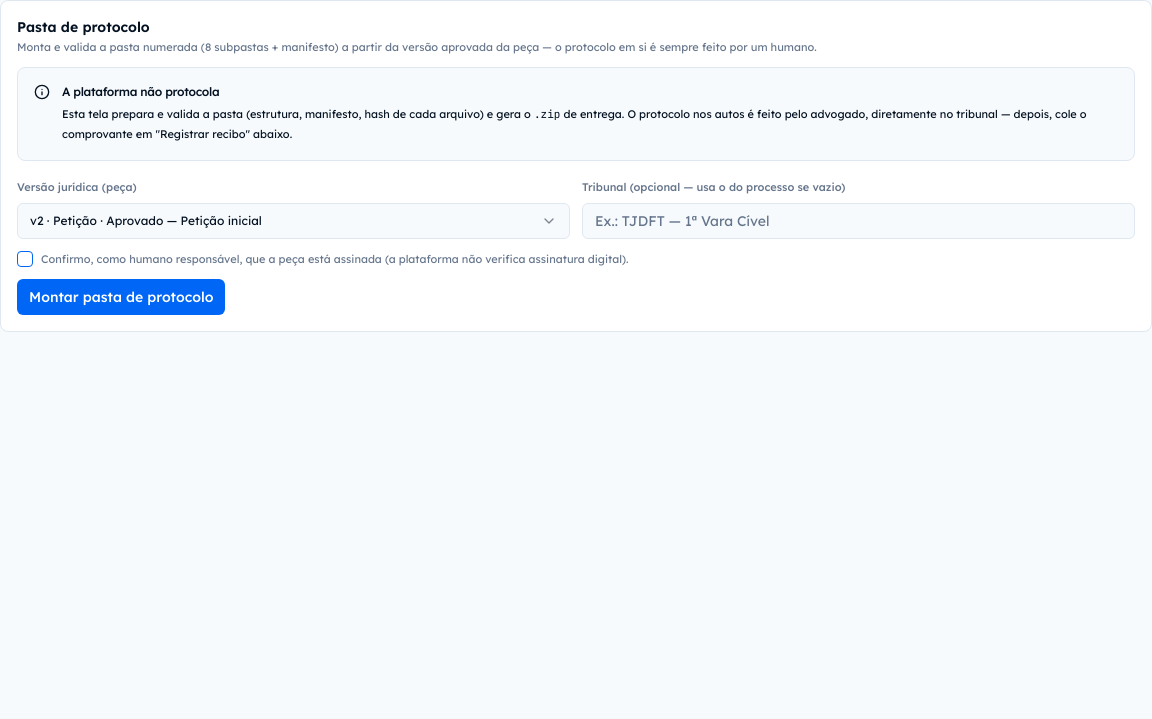
Test: LegalProtocolTab › shows the explicit pending list when the assembled folder comes back "bloqueado" — never a false "ready"
Click the button "Montar pasta de protocolo". click: (121, 297)
box: [17,279,225,315]
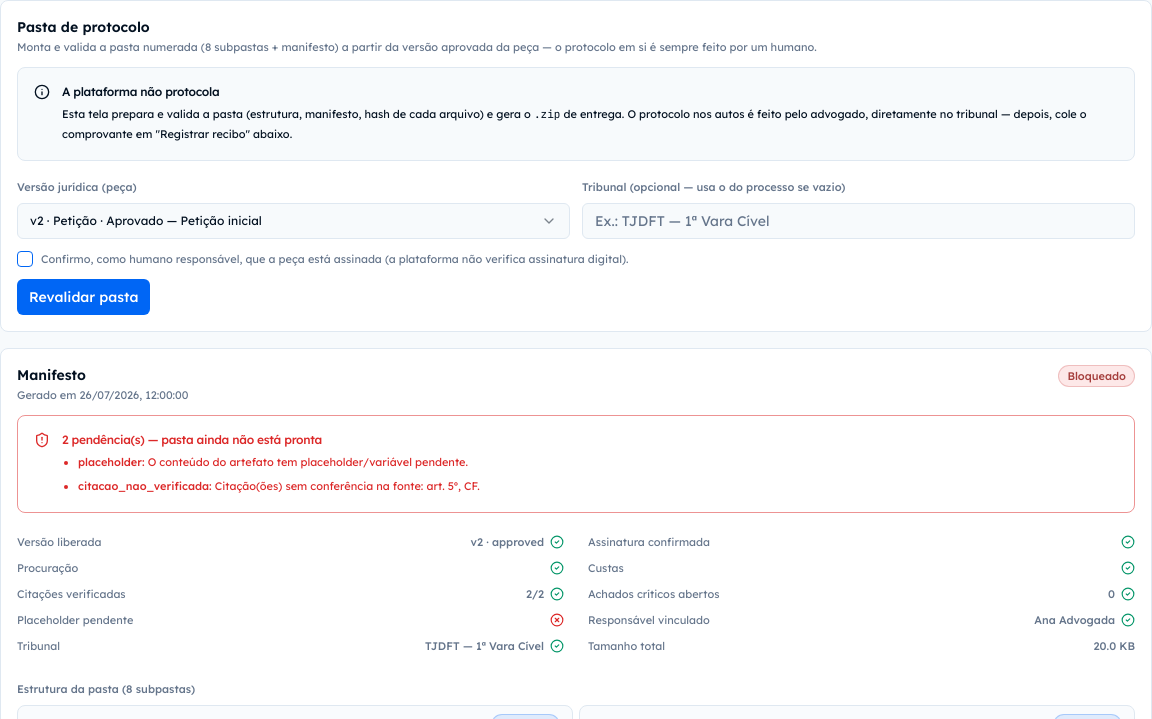
Expected: the heading "2 pendência(s) — pasta ainda não está pronta" is shown, [62,432,322,447]
Expected: the list item "placeholder/variável pendente" is shown, [148,455,468,469]
Expected: the list item "Citação(ões) sem conferência" is shown, [215,479,480,493]
